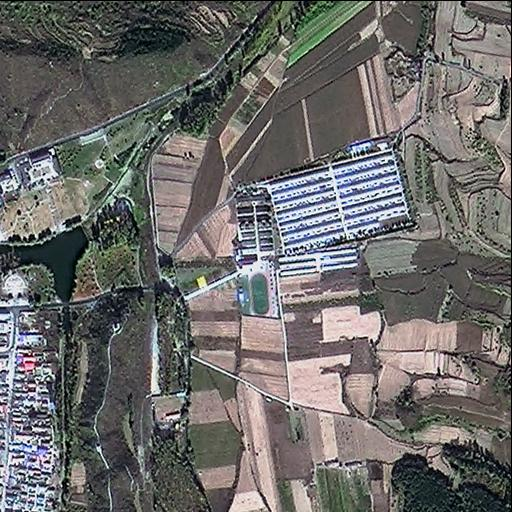school: (235, 183, 278, 320)
